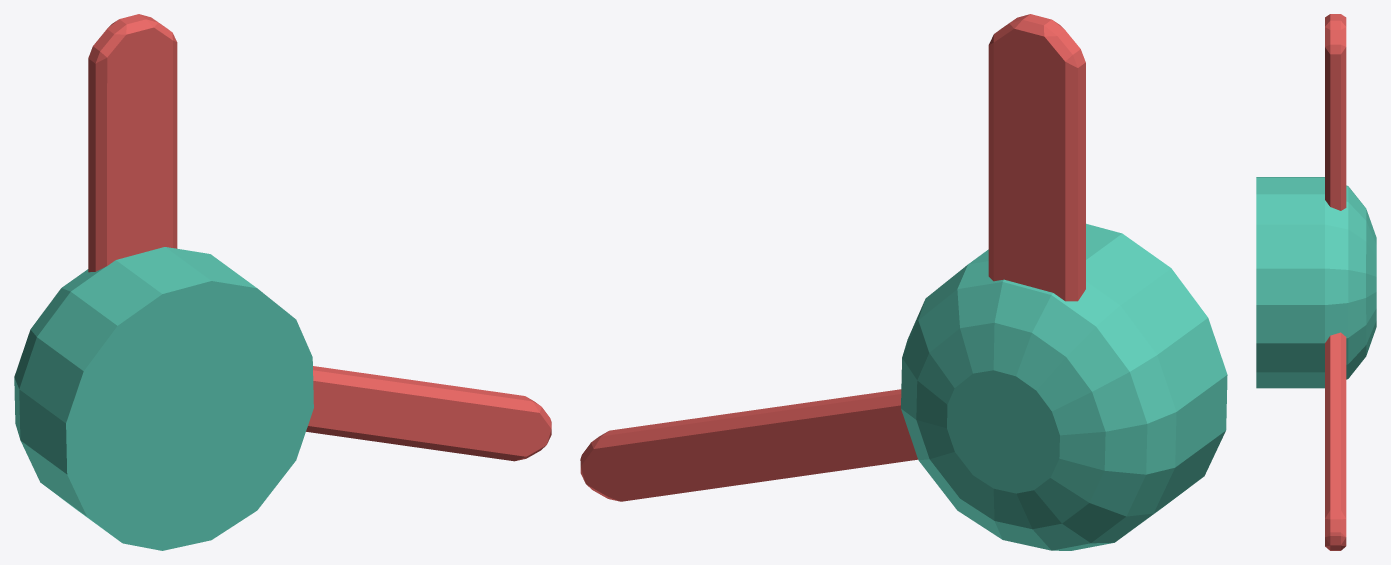
The model's file is 532_anothertime_bullet.fbx.
3 views of the same model, side by side, from view 1: azimuth 30°, elevation 25°; view 2: azimuth 150°, elevation 25°; view 3: azimuth 270°, elevation 25° (orthographic). The views are drawn at different scales.
Visible parts, largest first — view 1: time_bullet, pointer1.002, pointer2.002; view 2: time_bullet, pointer1.002, pointer2.002; view 3: time_bullet, pointer2.002, pointer1.002.
Boxes of the visible parts, x1,y1,x2,y2 form: time_bullet: [14, 247, 313, 550]; pointer1.002: [88, 14, 177, 272]; pointer2.002: [306, 366, 551, 461]; time_bullet: [901, 223, 1227, 550]; pointer1.002: [988, 14, 1085, 301]; pointer2.002: [580, 389, 917, 501]; time_bullet: [1256, 177, 1376, 388]; pointer2.002: [1325, 332, 1346, 550]; pointer1.002: [1325, 14, 1346, 210].
Bounding box in the file's own units: 119 × 113 × 31.62.
